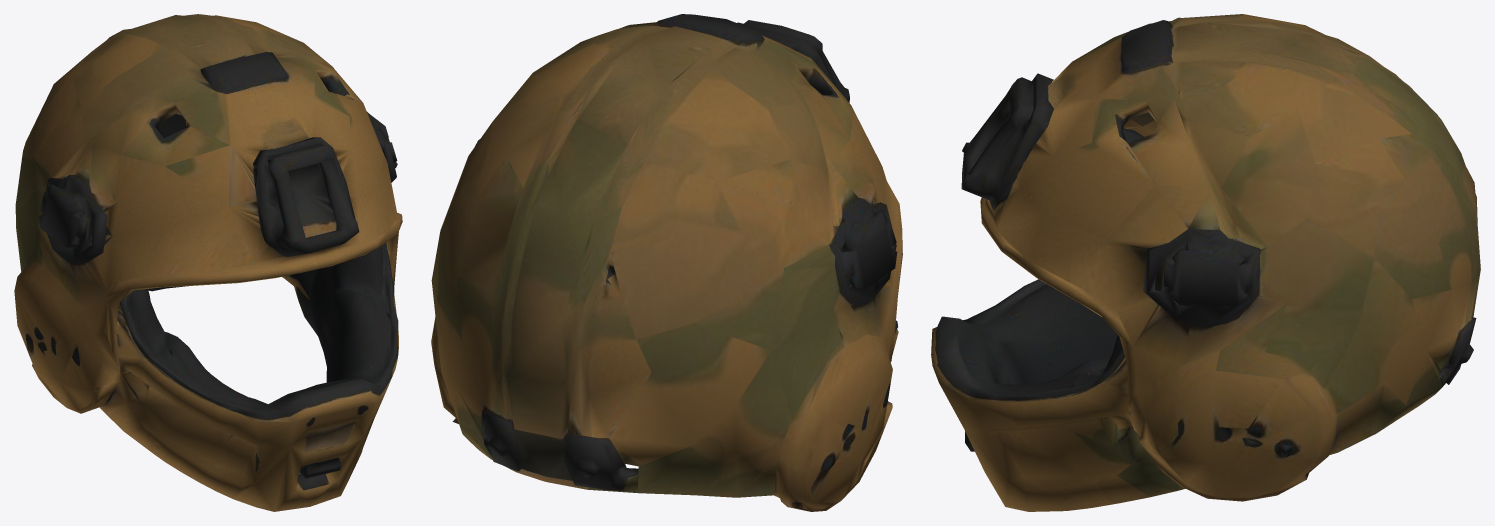
The model's file is helmet-web.glb.
3 views of the same model, side by side, from view 1: azimuth 30°, elevation 25°; view 2: azimuth 150°, elevation 25°; view 3: azimuth 270°, elevation 25° (orthographic). The views are drawn at different scales.
Size of the model in its own units: 0.3129 by 0.36 by 0.3932.
Materials: 1 (1 with a texture image).
